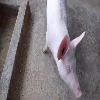heo: (42, 10, 85, 99)
